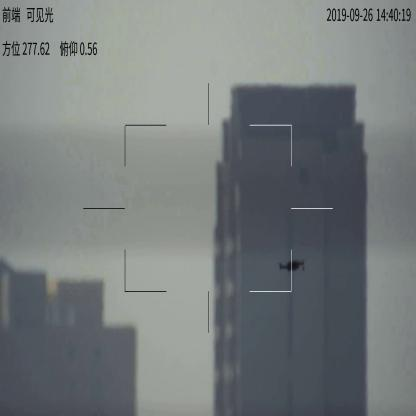uav: (276, 255, 307, 275)
